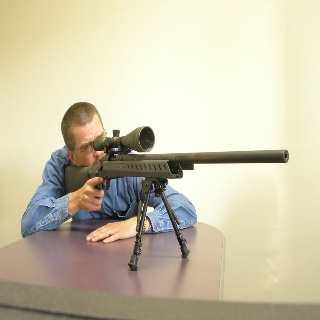rifle: (63, 125, 290, 271)
